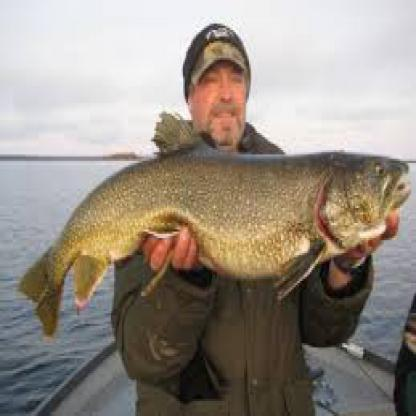fish: (24, 112, 411, 336)
